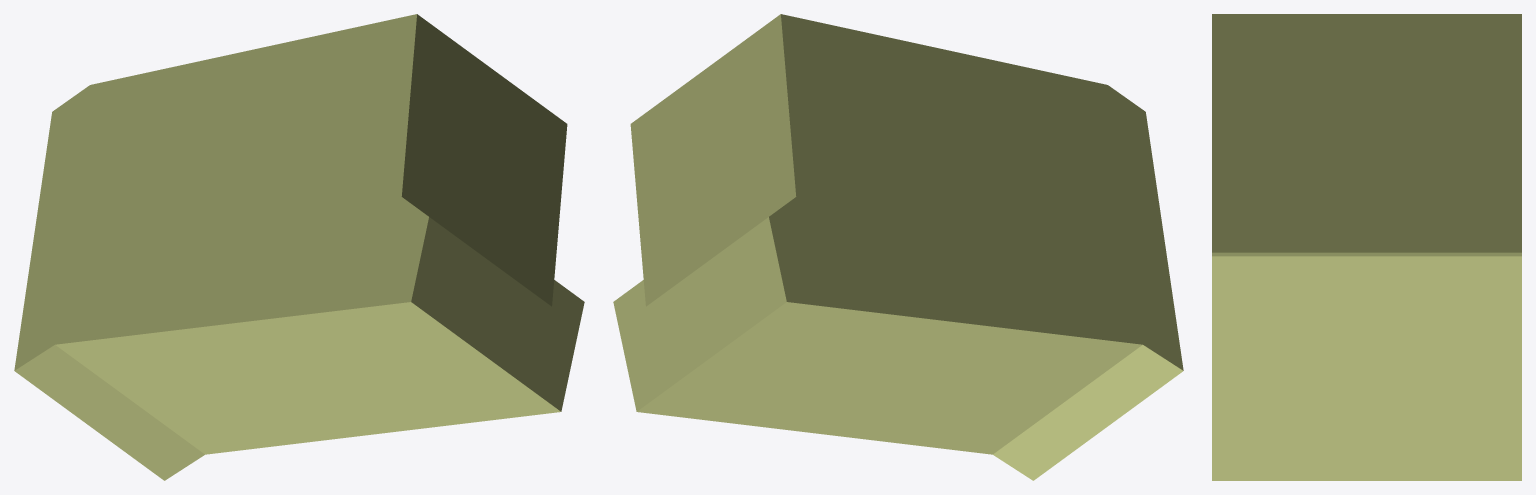
The picture shows the model from 3 angles, left to right: view 1: azimuth 30°, elevation 25°; view 2: azimuth 150°, elevation 25°; view 3: azimuth 270°, elevation 25°; orthographic projection. The views are drawn at different scales.
Parts seen in each view (by area): view 1: 0_1_0_0_1_3_1_1_1_0; view 2: 0_1_0_0_1_3_1_1_1_0; view 3: 0_1_0_0_1_3_1_1_1_0.
Part boxes in pixels (<box>): 0_1_0_0_1_3_1_1_1_0: <box>14,14,584,480</box>; 0_1_0_0_1_3_1_1_1_0: <box>613,14,1183,480</box>; 0_1_0_0_1_3_1_1_1_0: <box>1212,14,1521,480</box>.
Bounding box in the file's own units: 14.53 × 9.76 × 9.
